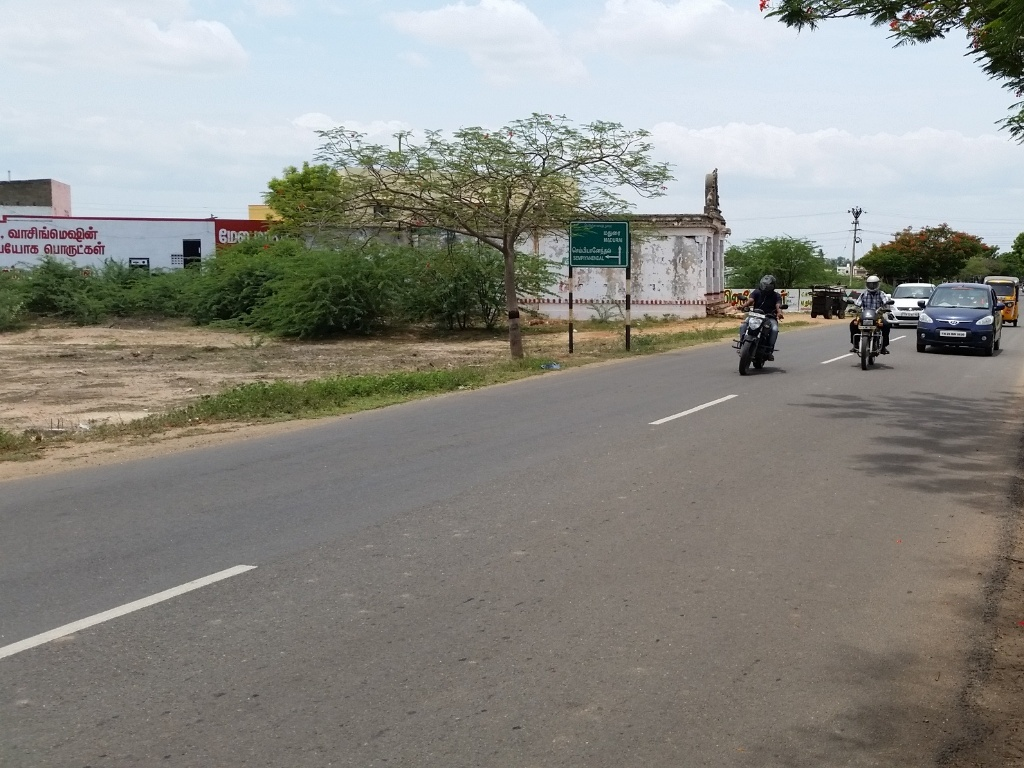biker: (720, 252, 802, 386), (833, 249, 913, 380)
helmet: (755, 264, 780, 301), (862, 264, 887, 301)
